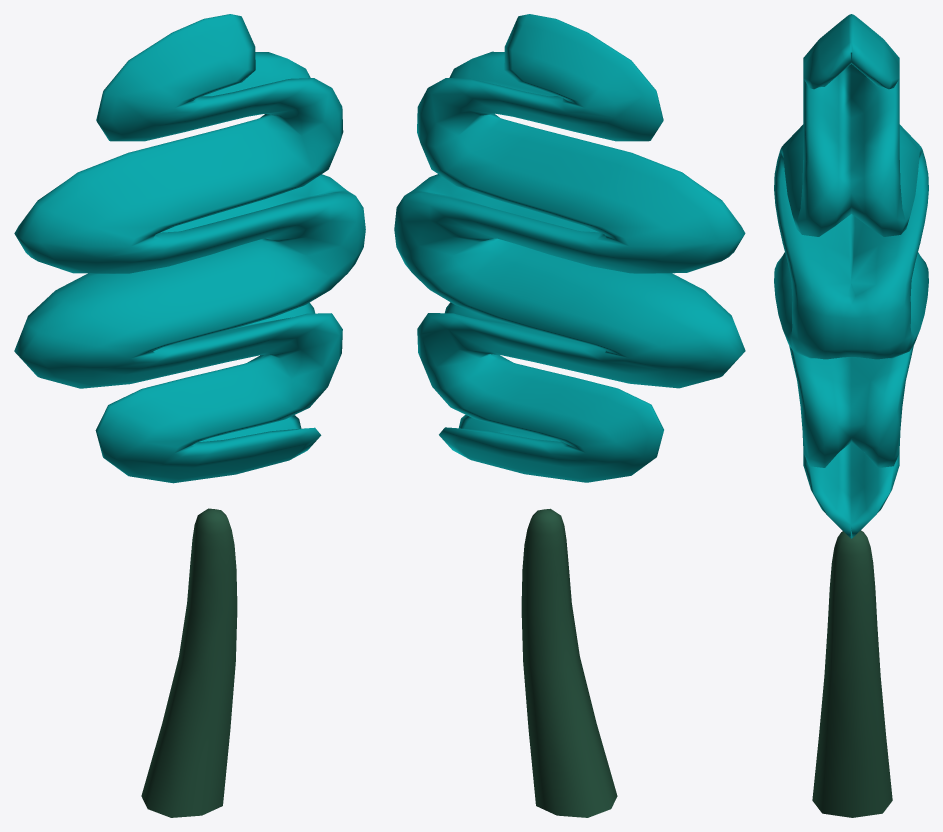
File: Tree Floating 1.glb
The picture shows the model from 3 angles, left to right: view 1: azimuth 30°, elevation 25°; view 2: azimuth 150°, elevation 25°; view 3: azimuth 270°, elevation 25°; orthographic projection.
Parts seen in each view (by area): view 1: Tree_Floating_1; view 2: Tree_Floating_1; view 3: Tree_Floating_1.
Boxes of the visible parts, x1=… form: Tree_Floating_1: x1=14, y1=14, x2=365, y2=817; Tree_Floating_1: x1=394, y1=14, x2=745, y2=817; Tree_Floating_1: x1=774, y1=14, x2=928, y2=817.
Bounding box in the file's own units: 2.09 × 4.61 × 0.8259.
1 material, 1 textured.
